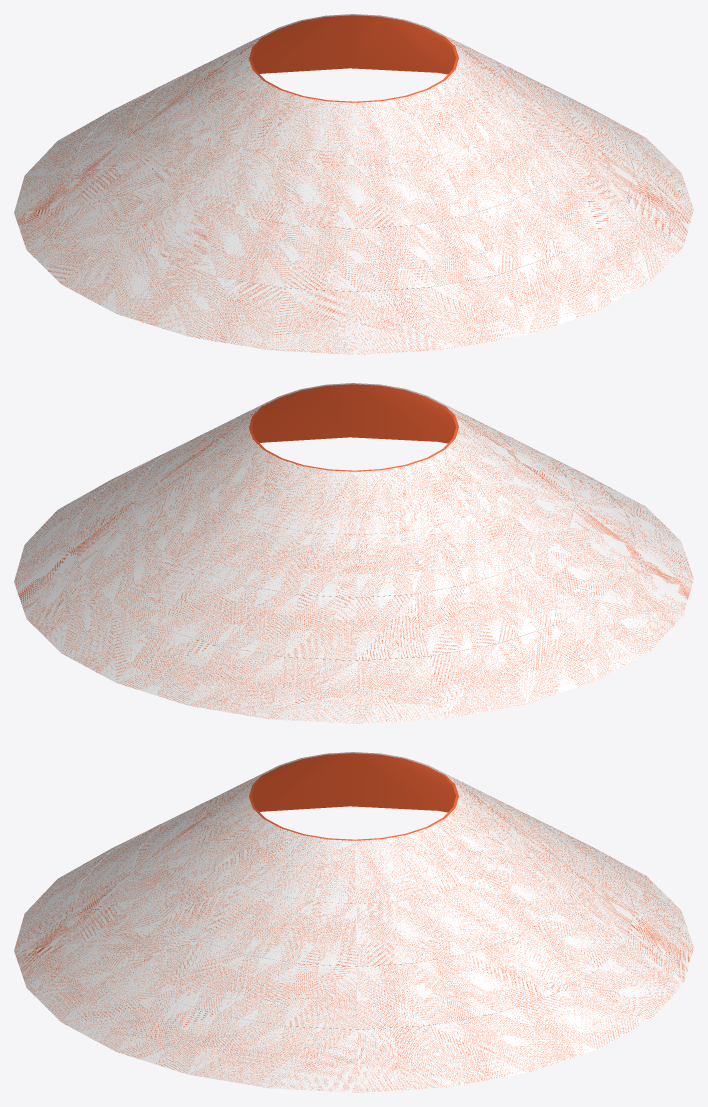
Rendered from training_cone.dae.
3 views of the same model, one above another, from view 1: azimuth 30°, elevation 25°; view 2: azimuth 150°, elevation 25°; view 3: azimuth 270°, elevation 25° (orthographic).
Parts seen in each view (by area): view 1: SketchUp (×3); view 2: SketchUp (×3); view 3: SketchUp (×3).
Part boxes in pixels (x1,y1,x2,y2): SketchUp (×3): (14, 14, 693, 354); SketchUp (×3): (14, 383, 693, 723); SketchUp (×3): (14, 752, 693, 1092).
Size of the model in its own units: 7.26 by 7.26 by 1.8.
